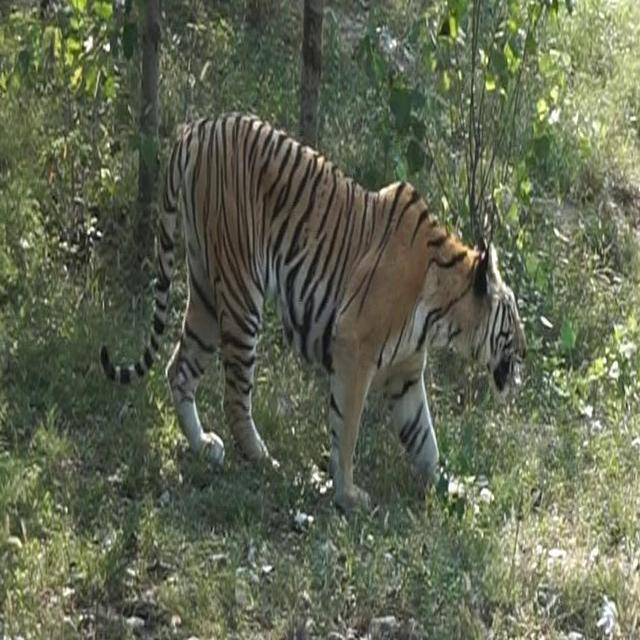tiger: (93, 109, 537, 522)
